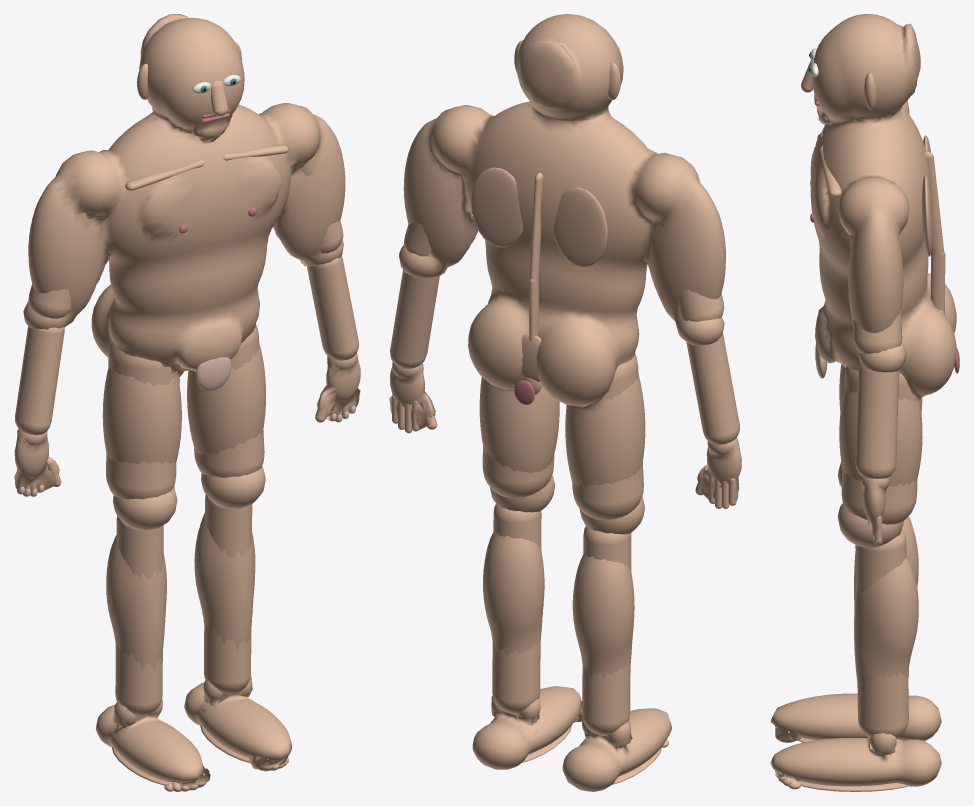
File: body-senior-divers-v2.glb
3 renders of one model, left to right at view 1: azimuth 30°, elevation 25°; view 2: azimuth 150°, elevation 25°; view 3: azimuth 270°, elevation 25°, orthographic.
Visible parts, largest first — view 1: zone__visual-surface-body-senior-divers, zone__surface-lower-leg-left, zone__surface-lower-leg-right, zone__surface-forearm-left, zone__surface-thigh-left, zone__surface-forearm-right, zone__surface-thigh-right, zone__surface-upper-arm-left, zone__surface-genital-observation-deferred, zone__surface-upper-arm-right, zone__surface-clavicle-left; view 2: zone__visual-surface-body-senior-divers, zone__surface-lower-leg-right, zone__surface-lower-leg-left, zone__surface-forearm-left, zone__surface-forearm-right, zone__surface-scapula-left, zone__surface-scapula-right, zone__surface-thigh-left, zone__surface-thigh-right, zone__surface-upper-arm-left, zone__surface-thoracic-spine, zone__surface-upper-arm-right (+1 smaller); view 3: zone__visual-surface-body-senior-divers, zone__surface-lower-leg-right, zone__surface-forearm-right, zone__surface-thigh-right, zone__surface-upper-arm-right, zone__surface-thoracic-spine, zone__surface-lumbar-spine, zone__surface-scapula-right, zone__surface-sole-right, zone__surface-ear-right, zone__surface-clavicle-right.
Boxes of the visible parts, x1,y1,x2,y2 form: zone__visual-surface-body-senior-divers: [14, 14, 360, 786]; zone__surface-lower-leg-left: [115, 516, 163, 715]; zone__surface-lower-leg-right: [204, 494, 252, 694]; zone__surface-forearm-left: [15, 326, 64, 435]; zone__surface-thigh-left: [106, 342, 176, 499]; zone__surface-forearm-right: [307, 256, 358, 360]; zone__surface-thigh-right: [194, 324, 264, 477]; zone__surface-upper-arm-left: [28, 212, 94, 318]; zone__surface-genital-observation-deferred: [196, 357, 231, 390]; zone__surface-upper-arm-right: [300, 153, 343, 253]; zone__surface-clavicle-left: [125, 160, 204, 190]; zone__visual-surface-body-senior-divers: [389, 14, 741, 791]; zone__surface-lower-leg-right: [492, 504, 541, 713]; zone__surface-lower-leg-left: [582, 526, 631, 735]; zone__surface-forearm-left: [686, 334, 739, 444]; zone__surface-forearm-right: [390, 270, 439, 368]; zone__surface-scapula-left: [553, 187, 607, 267]; zone__surface-scapula-right: [470, 167, 522, 247]; zone__surface-thigh-left: [572, 353, 643, 519]; zone__surface-thigh-right: [482, 446, 554, 497]; zone__surface-upper-arm-left: [660, 223, 724, 321]; zone__surface-thoracic-spine: [529, 172, 543, 285]; zone__surface-upper-arm-right: [404, 164, 447, 256]; zone__visual-surface-body-senior-divers: [770, 14, 956, 786]; zone__surface-lower-leg-right: [855, 530, 908, 738]; zone__surface-forearm-right: [855, 362, 899, 478]; zone__surface-thigh-right: [841, 367, 917, 524]; zone__surface-upper-arm-right: [850, 234, 902, 353]; zone__surface-thoracic-spine: [925, 151, 944, 260]; zone__surface-lumbar-spine: [930, 252, 945, 313]; zone__surface-scapula-right: [922, 175, 933, 256]; zone__surface-sole-right: [797, 780, 908, 791]; zone__surface-ear-right: [864, 72, 877, 110]; zone__surface-clavicle-right: [819, 146, 841, 197].
Size of the model in its own units: 0.8159 by 1.65 by 0.3819.
